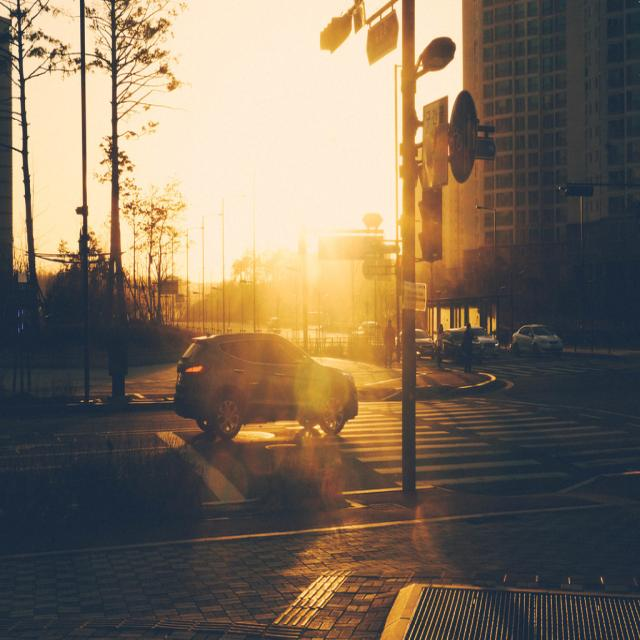car: (172, 330, 357, 438), (511, 324, 561, 357)
